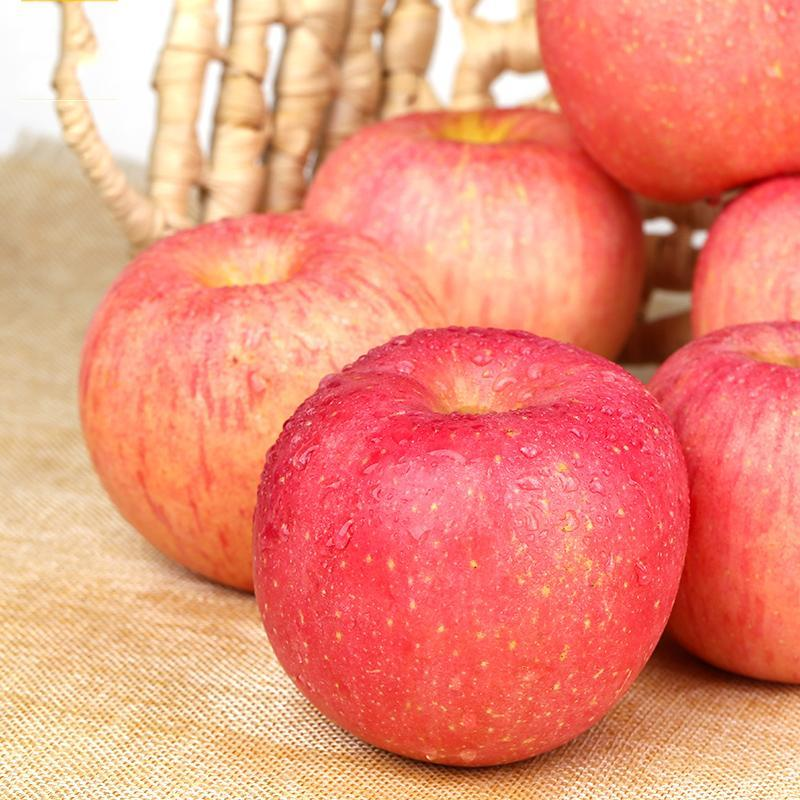apple: (98, 55, 785, 751), (371, 181, 798, 757), (75, 95, 634, 475), (285, 347, 682, 762), (644, 318, 800, 679), (534, 1, 798, 204), (691, 180, 798, 342)
